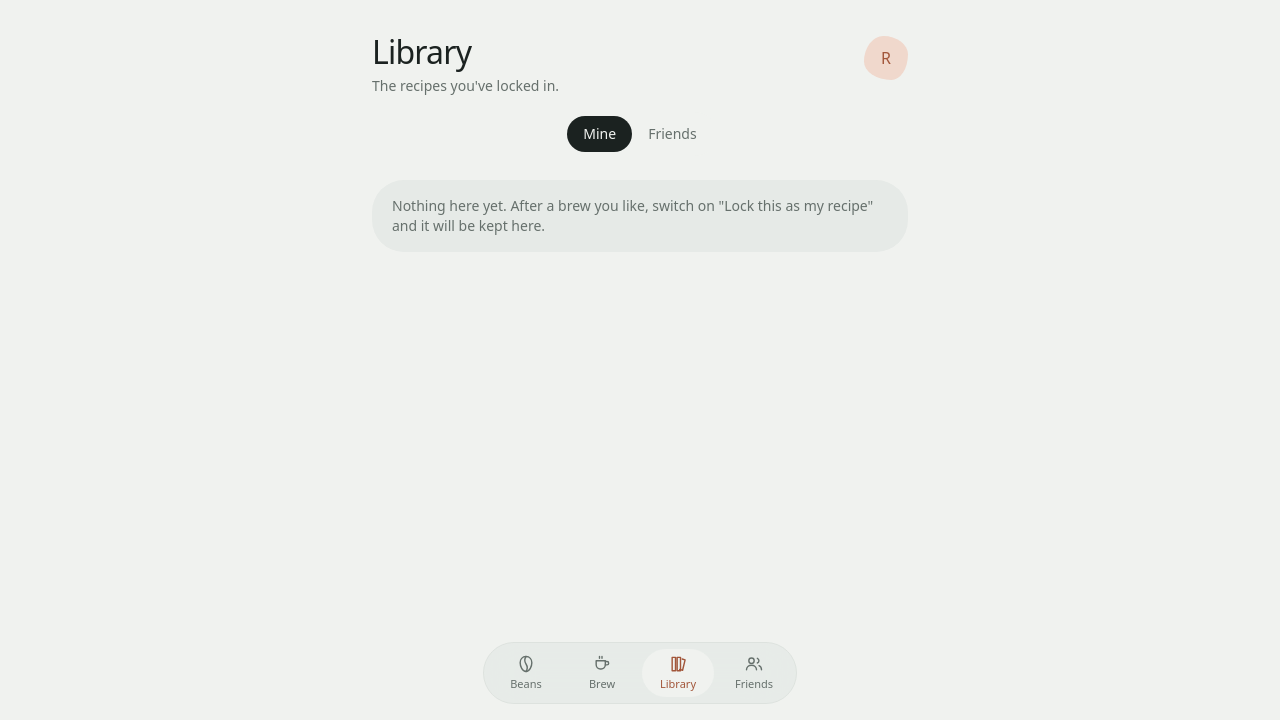
Scenario: Library: Friends › still shows a recipe for a bean you do not have, and says what to do
Click the radio button labelled "Friends".
click(672, 134)  # box [632, 116, 713, 152]
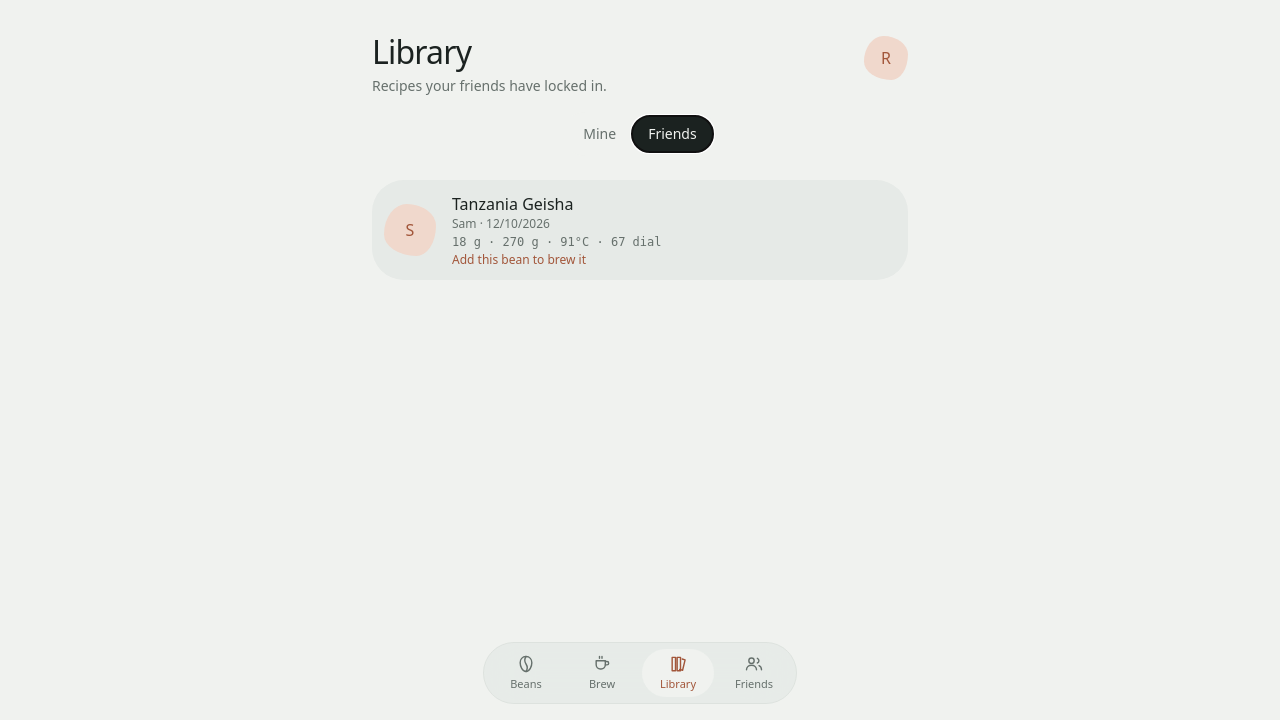
Expected: the list item that starts with "Tanzania Geisha" shows "Add this bean to brew it"
Click the button.
click(410, 230)  # box [372, 180, 908, 280]
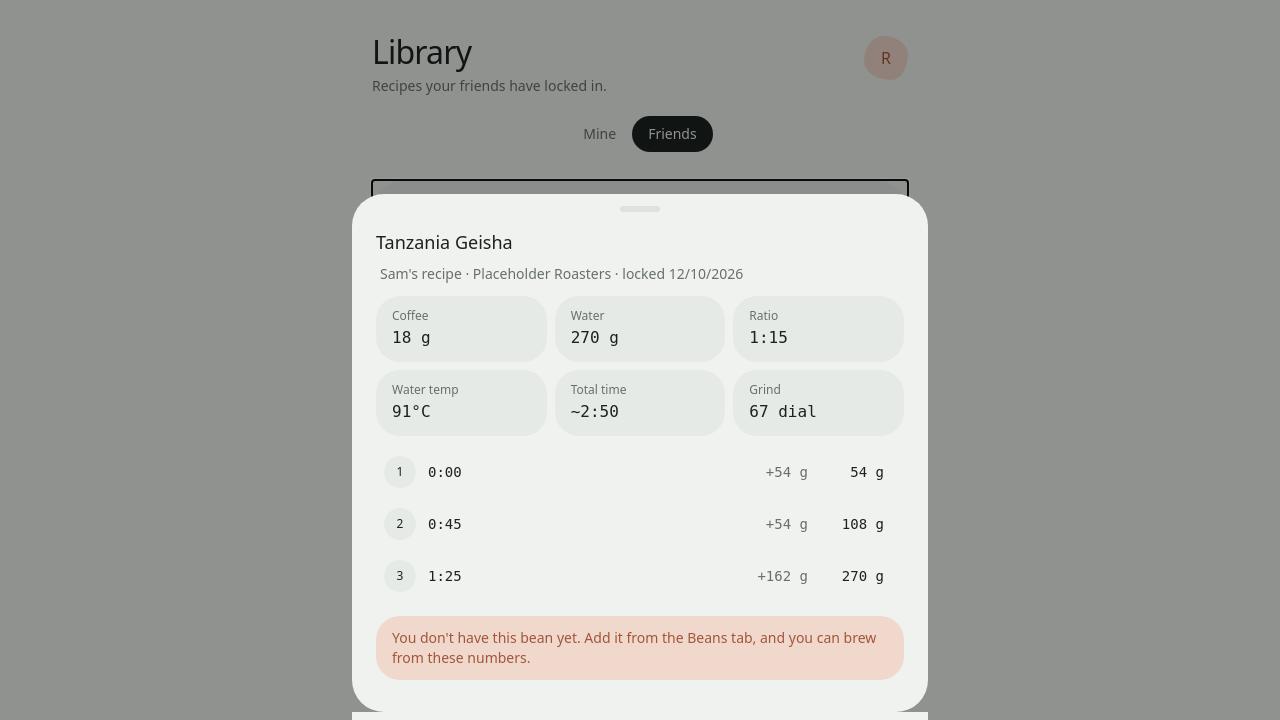
Expected: the text "You don't have this bean yet" is shown, [392, 628, 876, 667]
Expected: the element named "Their recipe" is shown, [376, 296, 904, 436]
